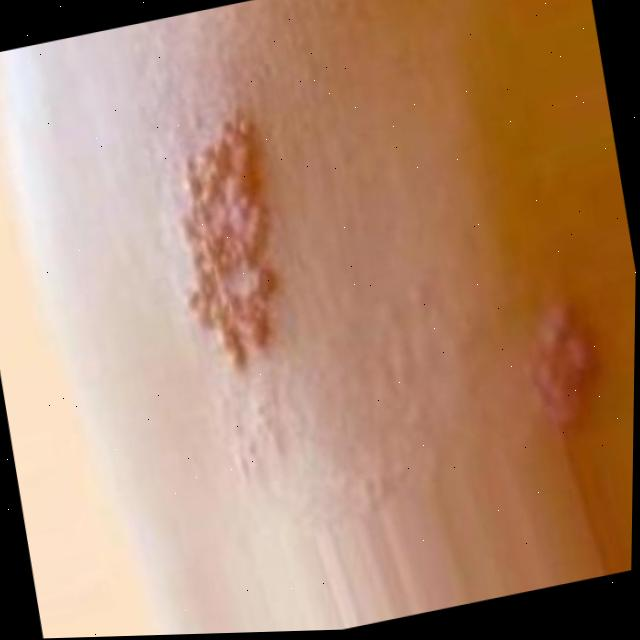Shingles: (162, 114, 315, 364), (516, 294, 601, 422)
